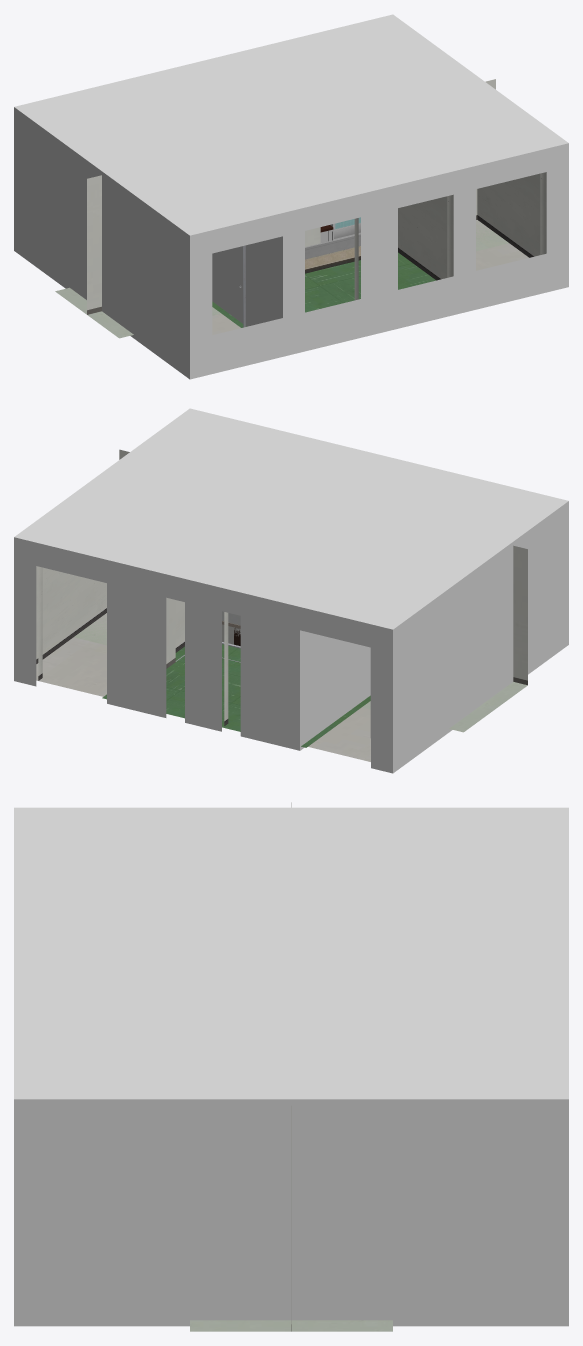
File: classroom.glb
3 views of the same model, one above another, from view 1: azimuth 30°, elevation 25°; view 2: azimuth 150°, elevation 25°; view 3: azimuth 270°, elevation 25° (orthographic). The views are drawn at different scales.
Visible parts, largest first — view 1: mesh_11, mesh_54, mesh_10, mesh_53, mesh_5, mesh_16, mesh_80, mesh_9, mesh_13; view 2: mesh_11, mesh_54, mesh_10, mesh_9, mesh_5, mesh_74, mesh_13, mesh_86, mesh_53; view 3: mesh_11, mesh_54, mesh_13.
Boxes of the visible parts, x1,y1,x2,y2 form: mesh_11: [14, 14, 568, 379]; mesh_54: [109, 37, 475, 356]; mesh_10: [354, 172, 546, 300]; mesh_53: [398, 194, 453, 280]; mesh_5: [212, 252, 435, 327]; mesh_16: [87, 79, 495, 310]; mesh_80: [305, 217, 360, 273]; mesh_9: [212, 220, 528, 334]; mesh_13: [55, 221, 508, 338]; mesh_11: [14, 408, 568, 773]; mesh_54: [107, 433, 475, 750]; mesh_10: [36, 566, 228, 725]; mesh_9: [36, 613, 370, 761]; mesh_5: [102, 644, 370, 747]; mesh_74: [119, 449, 527, 680]; mesh_13: [74, 615, 527, 732]; mesh_86: [166, 597, 175, 663]; mesh_53: [175, 600, 184, 652]; mesh_11: [14, 807, 568, 1326]; mesh_54: [14, 879, 568, 1027]; mesh_13: [190, 1320, 392, 1331].
Size of the model in its own units: 1100 by 434 by 820.
Materials: 36 (32 with a texture image).
